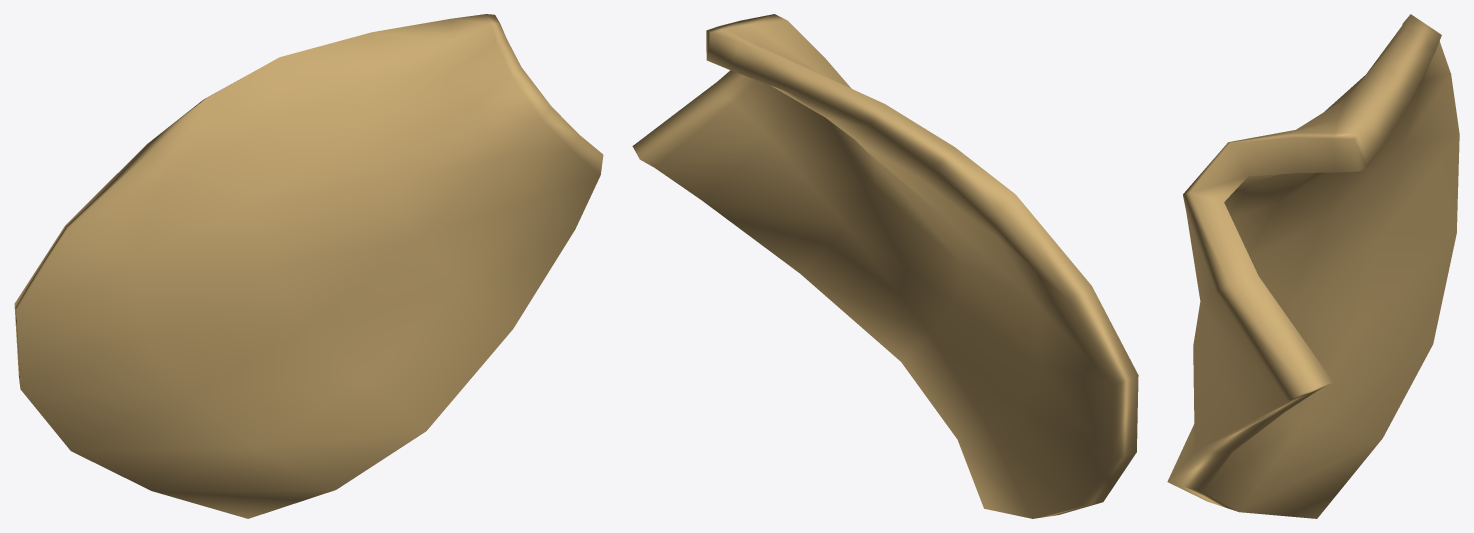
The picture shows the model from 3 angles, left to right: view 1: azimuth 30°, elevation 25°; view 2: azimuth 150°, elevation 25°; view 3: azimuth 270°, elevation 25°; orthographic projection. The views are drawn at different scales.
Visible parts, largest first — view 1: 左侧外侧半月板后半月板胫骨韧带; view 2: 左侧外侧半月板后半月板胫骨韧带; view 3: 左侧外侧半月板后半月板胫骨韧带.
Part boxes in pixels (x1,y1,x2,y2): 左侧外侧半月板后半月板胫骨韧带: (14,14,603,518); 左侧外侧半月板后半月板胫骨韧带: (632,14,1138,518); 左侧外侧半月板后半月板胫骨韧带: (1167,14,1459,518).
Size of the model in its own units: 0.016 by 0.0119 by 0.00571.
